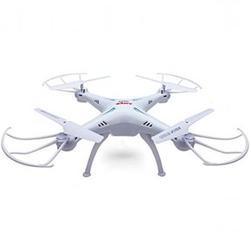drone: (1, 70, 250, 179)
